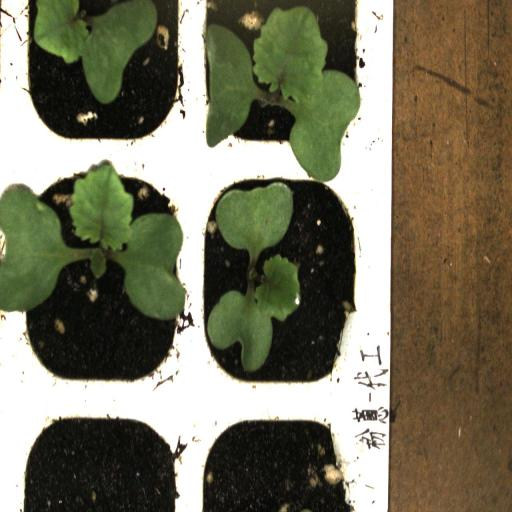Folha: (207, 254, 301, 373), (215, 181, 293, 258)
Germinacao: (190, 156, 370, 400), (22, 154, 188, 399), (192, 0, 369, 151)
